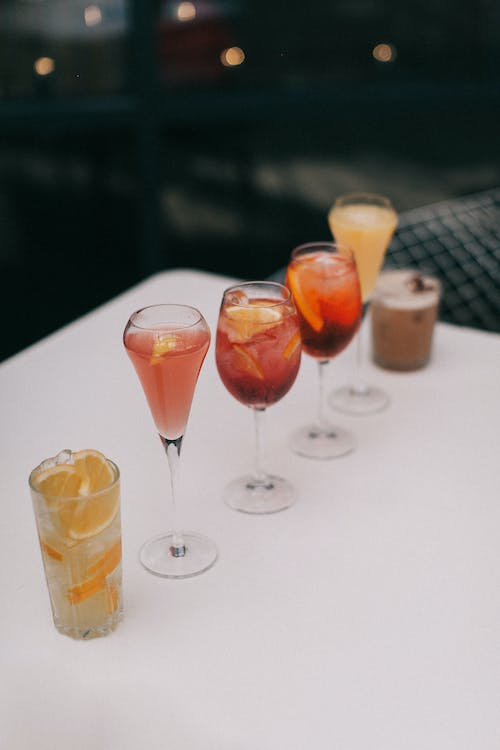alcohol: (120, 301, 219, 581), (212, 280, 303, 517), (27, 449, 126, 643), (282, 241, 364, 463), (325, 191, 399, 416), (368, 266, 443, 375)
